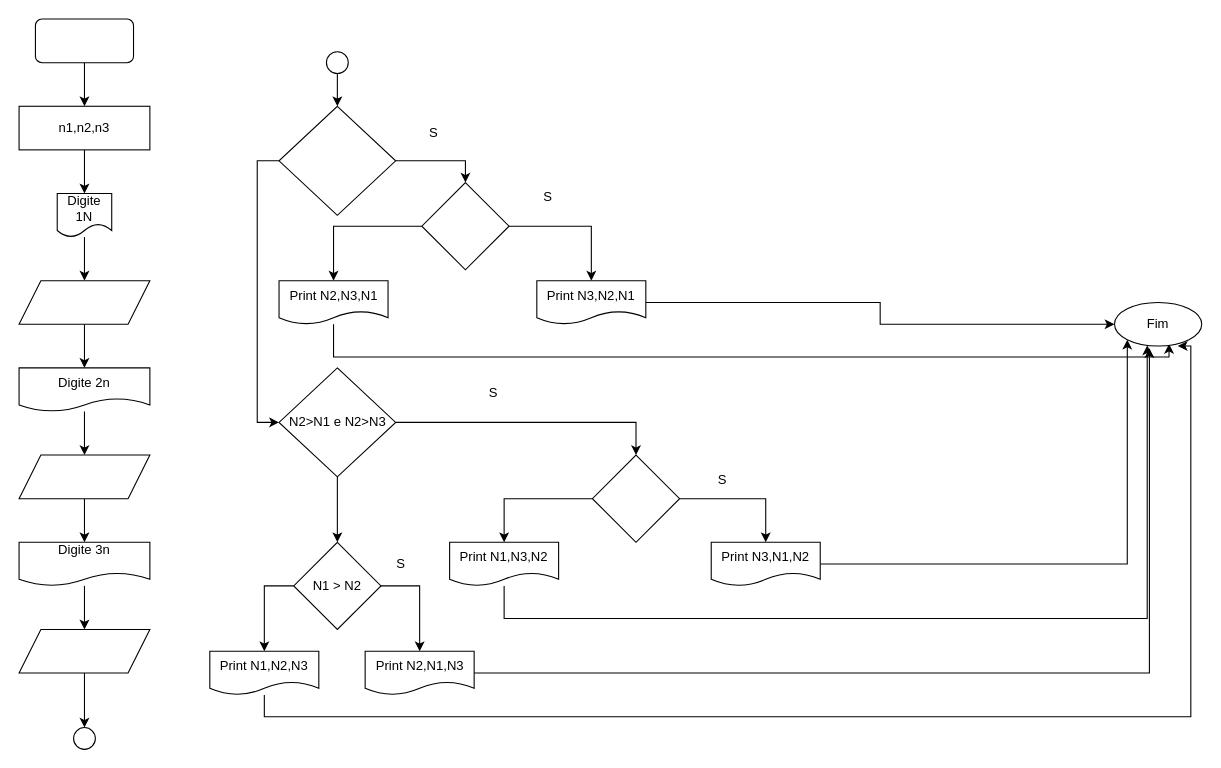
Image size: 1221x768. Some labels were removed from this diagram. Here are the shapes that lost their labels. From the top down, the centre of each, then its label:
(x=84, y=40): INICIO
(x=337, y=160): N1>N2 e N1>N3
(x=465, y=225): N2 > N3
(x=84, y=302): n1
(x=84, y=476): n2
(x=635, y=498): N1 > N3
(x=84, y=650): n3
